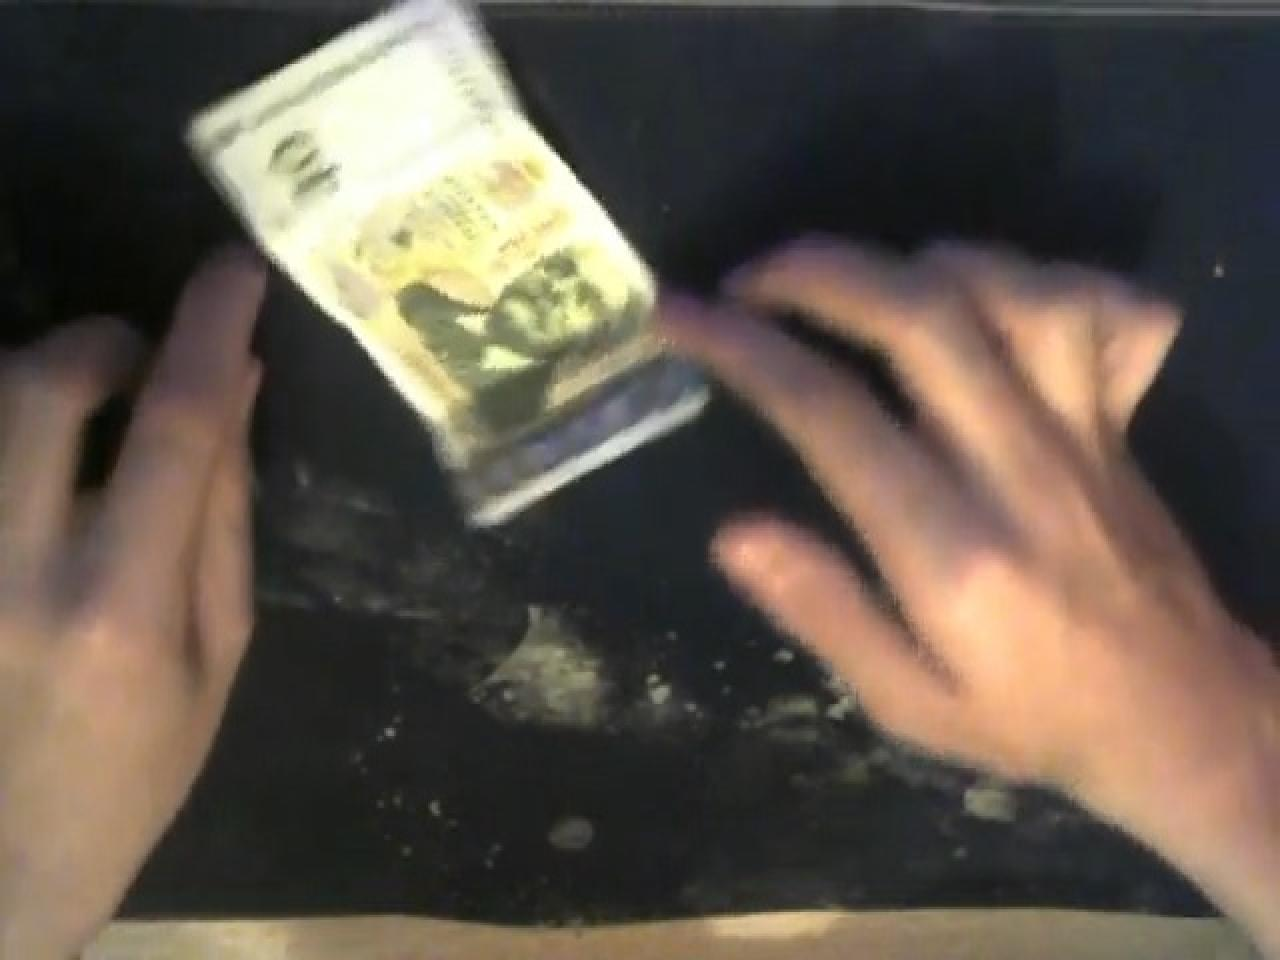10leva: (184, 0, 712, 528)
